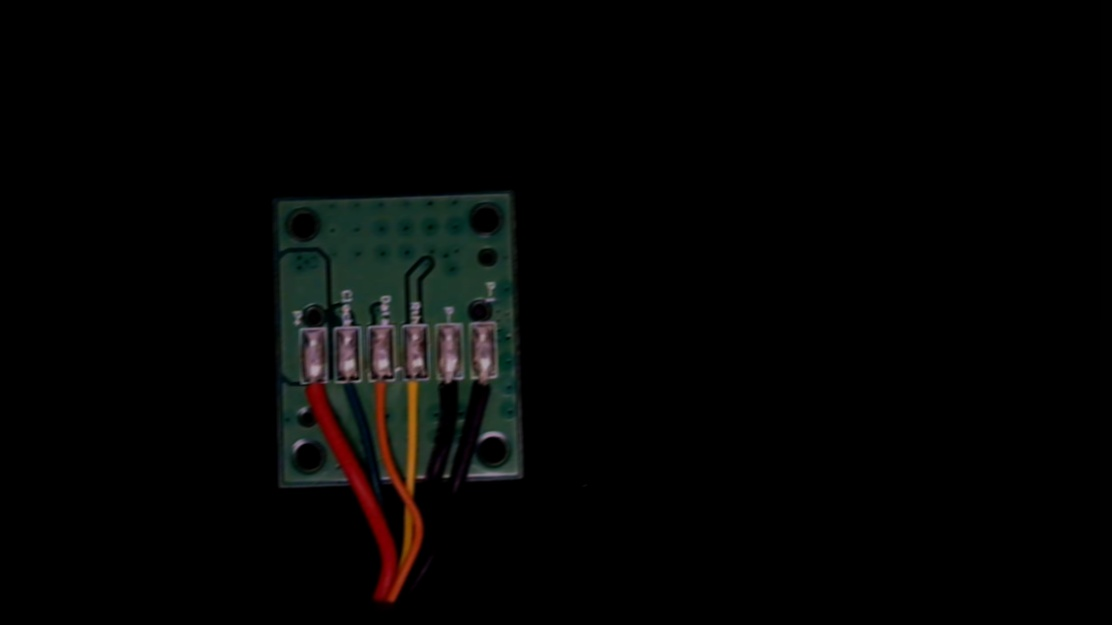Black: (438, 362, 464, 424)
Black1: (472, 364, 497, 415)
Green: (336, 364, 366, 425)
Orange: (370, 363, 399, 426)
Red: (301, 366, 332, 428)
Yellow: (405, 362, 430, 424)
